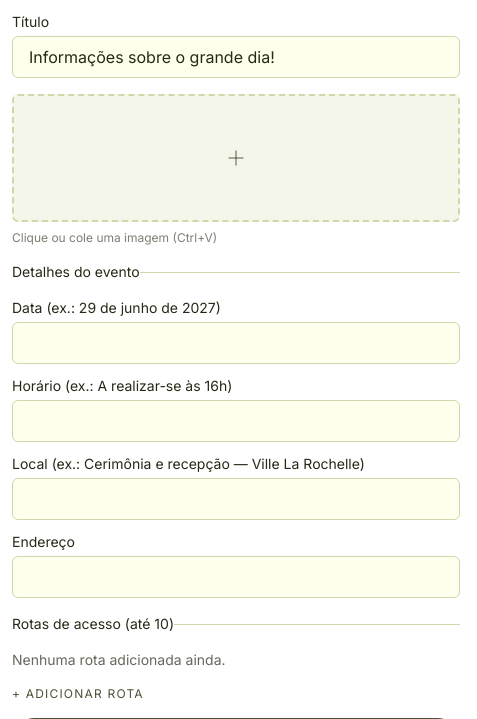
TipsCerimoniaForm › adds a new route block when clicking + Adicionar rota
This screenshot has width=477, height=719.
Click the button "+ Adicionar rota": coordinates (78, 694) [12,686,144,702]
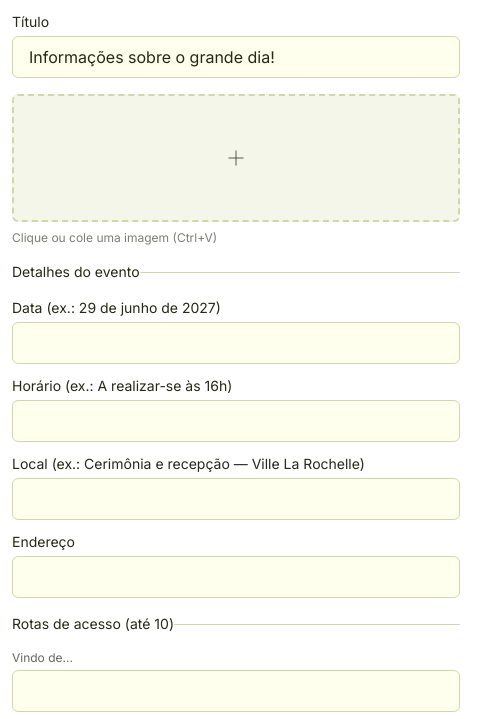
Expected: the field labelled "Vindo de..." is shown, [12,670,460,712]
